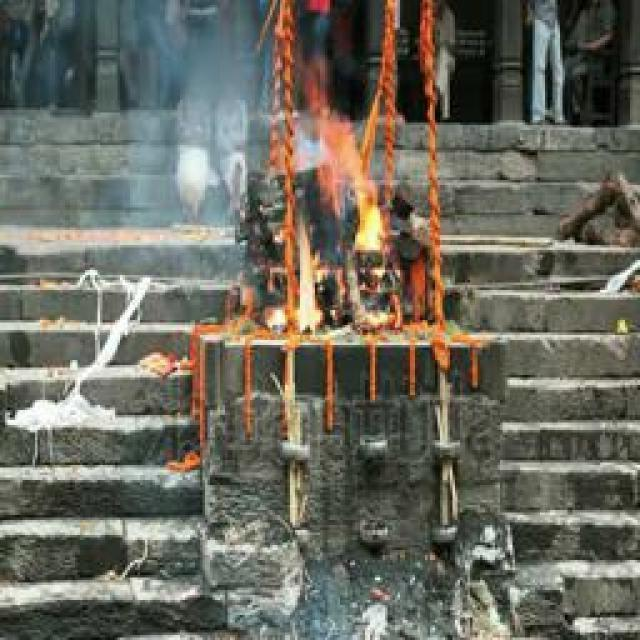Fire: (282, 81, 388, 332)
